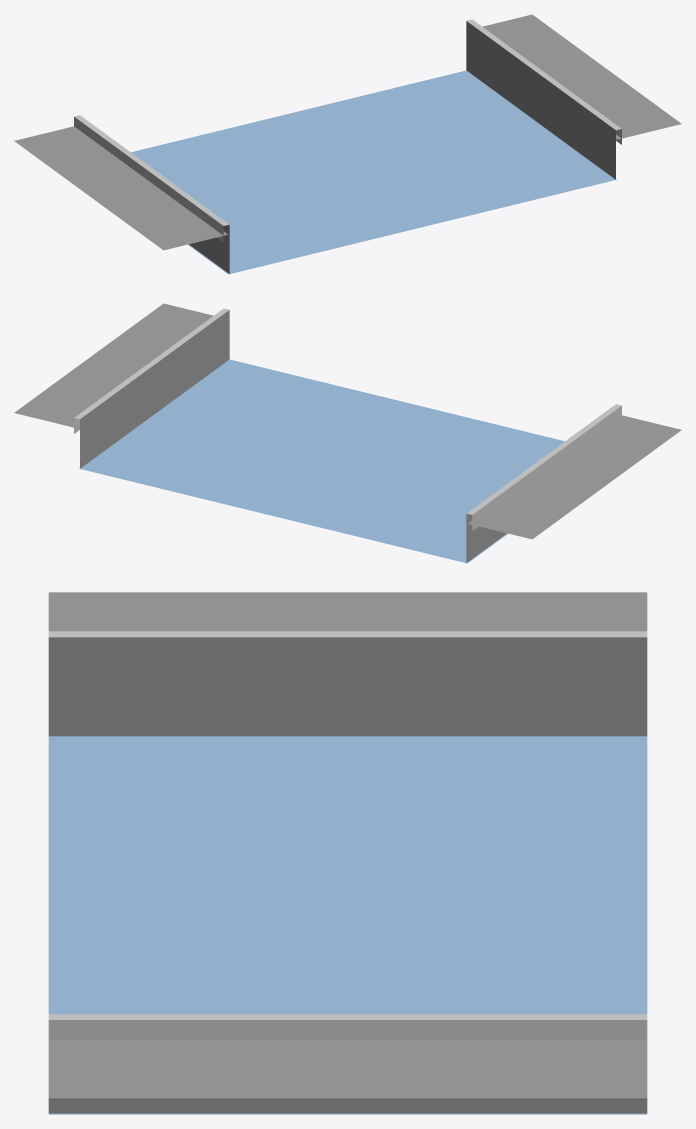
File: road_tile_river_2x2_010.glb
3 views of the same model, one above another, from view 1: azimuth 30°, elevation 25°; view 2: azimuth 150°, elevation 25°; view 3: azimuth 270°, elevation 25° (orthographic). The views are drawn at different scales.
Parts seen in each view (by area): view 1: road_tile_river_2x2_010; view 2: road_tile_river_2x2_010; view 3: road_tile_river_2x2_010.
Part boxes in pixels (x1,y1,x2,y2): road_tile_river_2x2_010: (14, 14, 681, 274); road_tile_river_2x2_010: (14, 303, 681, 563); road_tile_river_2x2_010: (48, 592, 647, 1114).
Bounding box in the file's own units: 16 × 1.46 × 8.
1 material, 1 textured.
